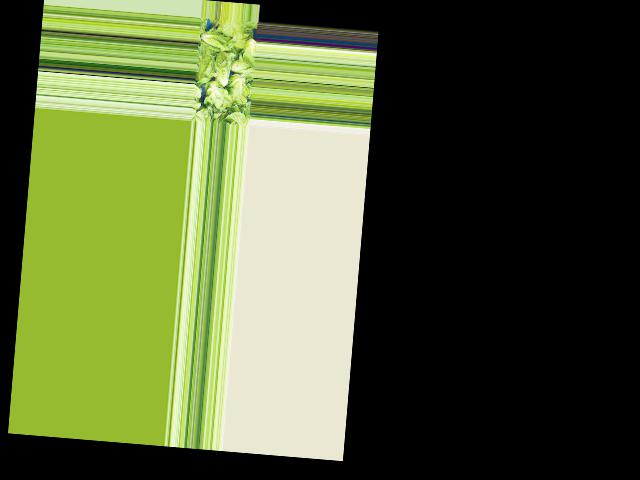lettuce: (240, 33, 256, 68)
